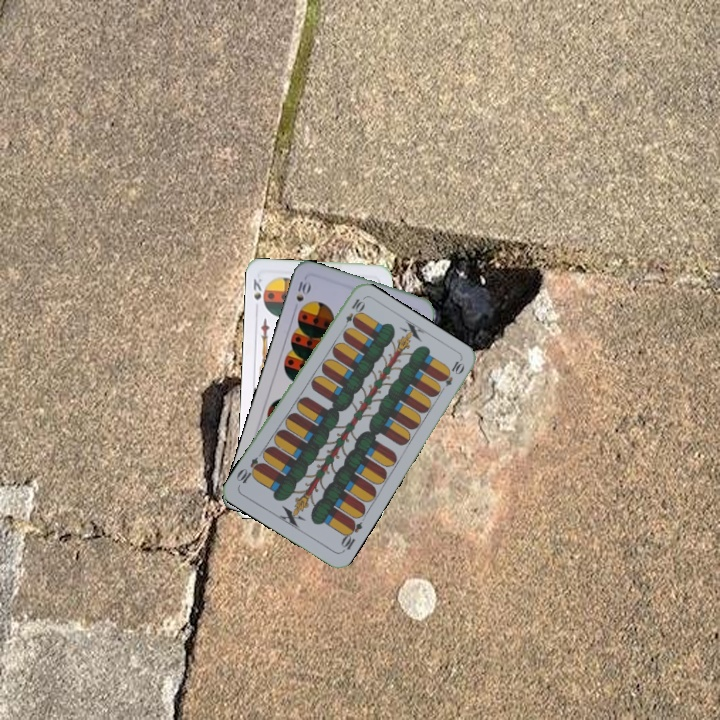E10: (337, 516, 365, 555), (339, 295, 366, 333)
S10: (290, 275, 313, 314)
SK: (249, 274, 265, 314)
